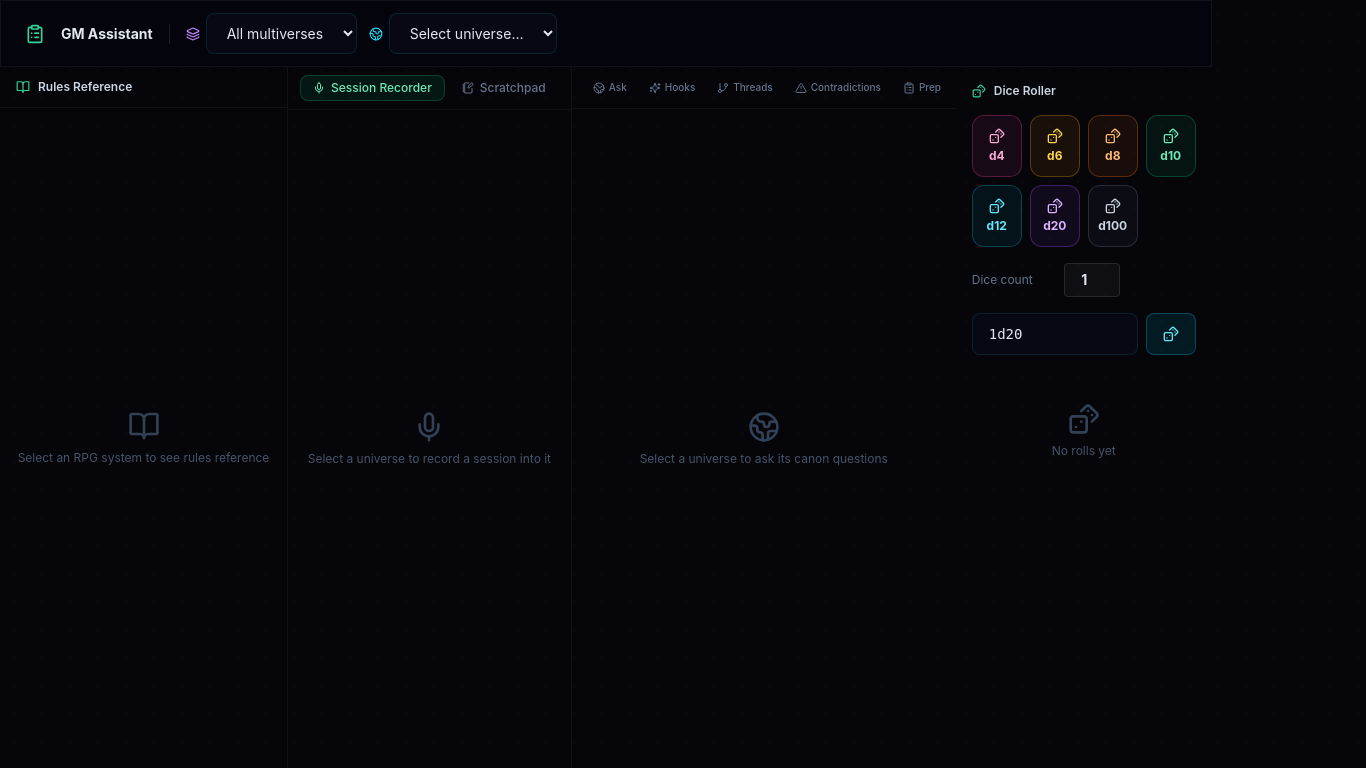
Scenario: GM Assistant dice roller (server-authoritative) › routes quick-dice buttons through the server roll
Click the button "d6". click: (1055, 146)
box: [1030,115,1080,177]
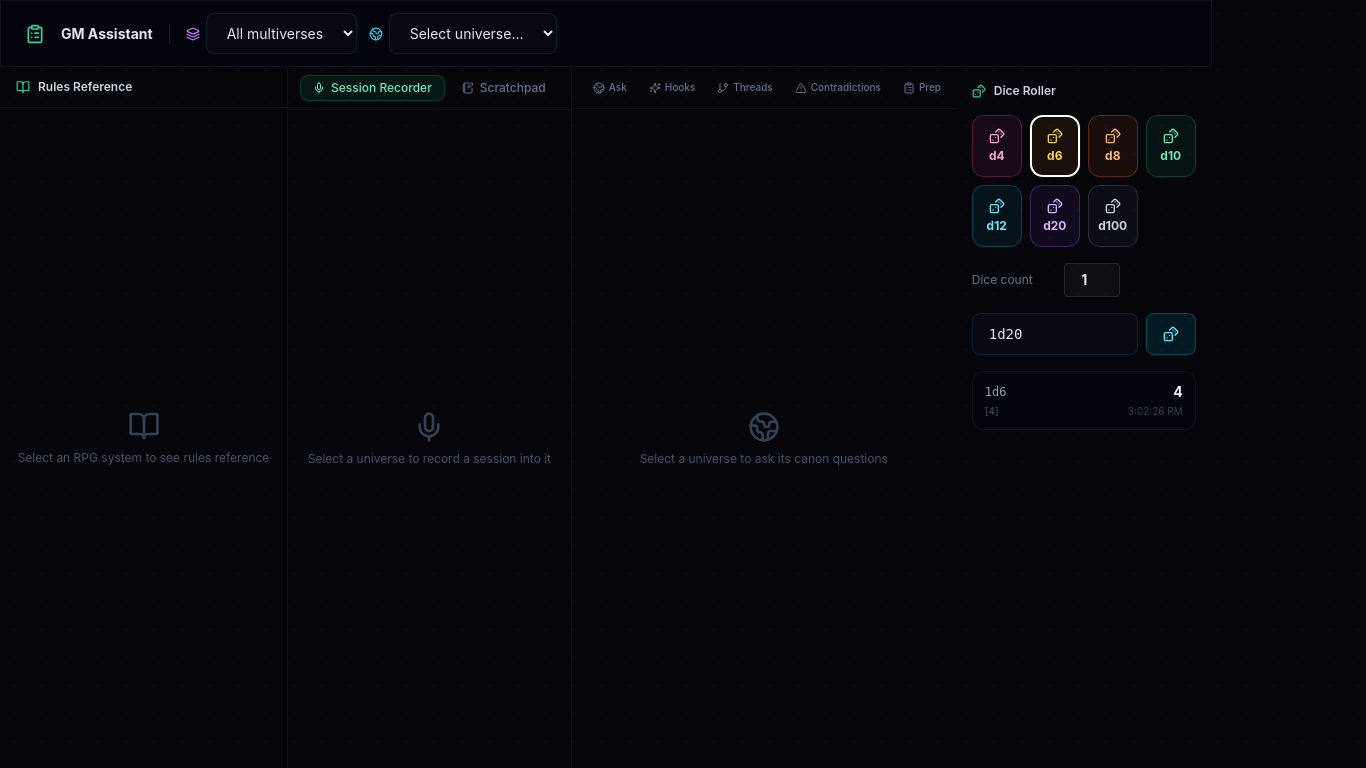
Expected: the text "4" is shown, [1173,382,1183,402]
Expected: the text "[4]" is shown, [985,404,999,419]
